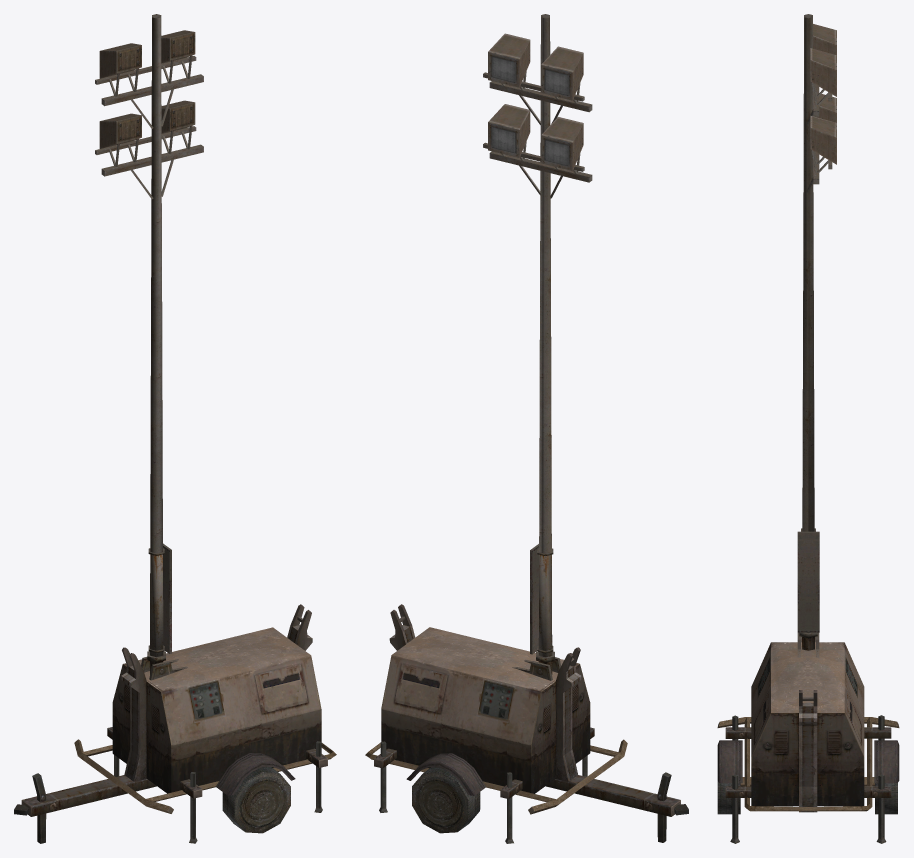
File: Prop_Tzd.glb
3 renders of one model, left to right at view 1: azimuth 30°, elevation 25°; view 2: azimuth 150°, elevation 25°; view 3: azimuth 270°, elevation 25°, orthographic. The views are drawn at different scales.
Visible parts, largest first — view 1: xiutz_tzd_0; view 2: xiutz_tzd_0; view 3: xiutz_tzd_0.
Part boxes in pixels (<box>): xiutz_tzd_0: <box>14,14,336,843</box>; xiutz_tzd_0: <box>365,14,688,843</box>; xiutz_tzd_0: <box>717,14,899,843</box>.
Bounding box in the file's own units: 4.44 × 11.49 × 2.47.
2 materials, 2 textured.
